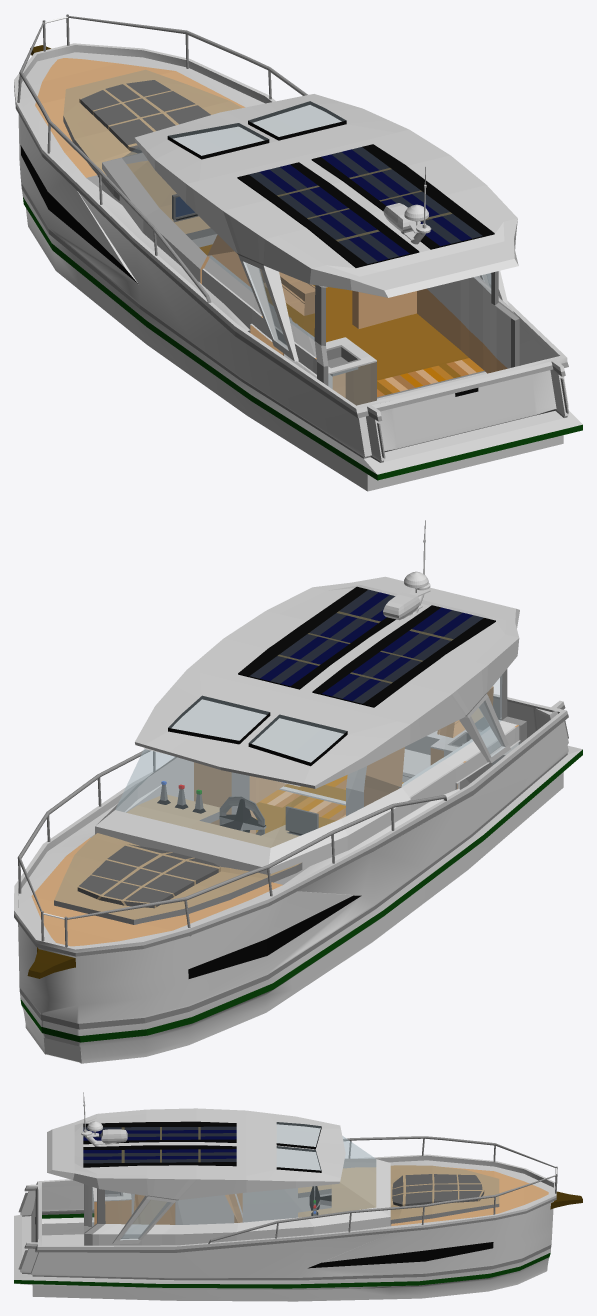
The model's file is boat.outboard.glb.
3 renders of one model, top to bottom at view 1: azimuth 30°, elevation 25°; view 2: azimuth 150°, elevation 25°; view 3: azimuth 270°, elevation 25°, orthographic. The views are drawn at different scales.
Parts seen in each view (by area): view 1: bat_du_bateau_14, toit_17, vitre_18, capo_16, barre_haut_3, antaine_0; view 2: bat_du_bateau_14, toit_17, vitre_18, capo_16, barre_haut_3, antaine_0, avant_1; view 3: bat_du_bateau_14, toit_17, vitre_18, capo_16, barre_haut_3, antaine_0, avant_1.
Part boxes in pixels (left/top/right/bottom): bat_du_bateau_14: left=14, top=43, right=582, bottom=491; toit_17: left=134, top=94, right=518, bottom=361; vitre_18: left=102, top=105, right=519, bottom=405; capo_16: left=63, top=69, right=241, bottom=239; barre_haut_3: left=19, top=16, right=307, bottom=302; antaine_0: left=383, top=167, right=431, bottom=244; bat_du_bateau_14: left=14, top=693, right=582, bottom=1063; toit_17: left=135, top=576, right=519, bottom=788; vitre_18: left=95, top=669, right=526, bottom=884; capo_16: left=54, top=781, right=318, bottom=924; barre_haut_3: left=17, top=749, right=446, bottom=919; antaine_0: left=383, top=520, right=430, bottom=620; avant_1: left=27, top=947, right=75, bottom=978; bat_du_bateau_14: left=14, top=1154, right=556, bottom=1301; toit_17: left=47, top=1108, right=345, bottom=1243; vitre_18: left=84, top=1127, right=390, bottom=1245; capo_16: left=298, top=1165, right=499, bottom=1224; barre_haut_3: left=208, top=1136, right=556, bottom=1243; antaine_0: left=81, top=1092, right=127, bottom=1146; avant_1: left=550, top=1191, right=582, bottom=1209.
Size of the model in its own units: 1.9 by 2.02 by 6.
